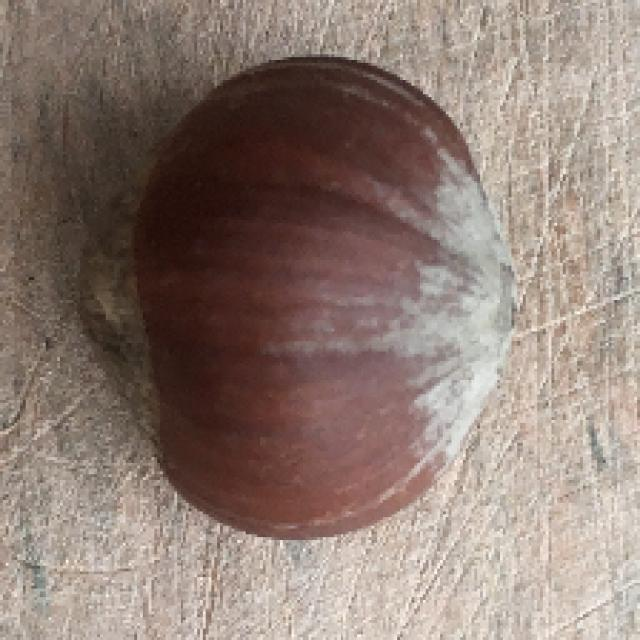damagedHazelnut: (77, 54, 519, 542)
